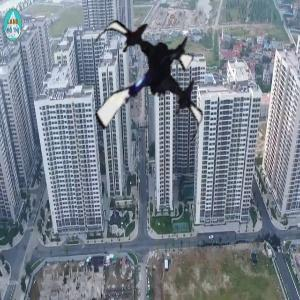drone: (75, 14, 221, 160)
